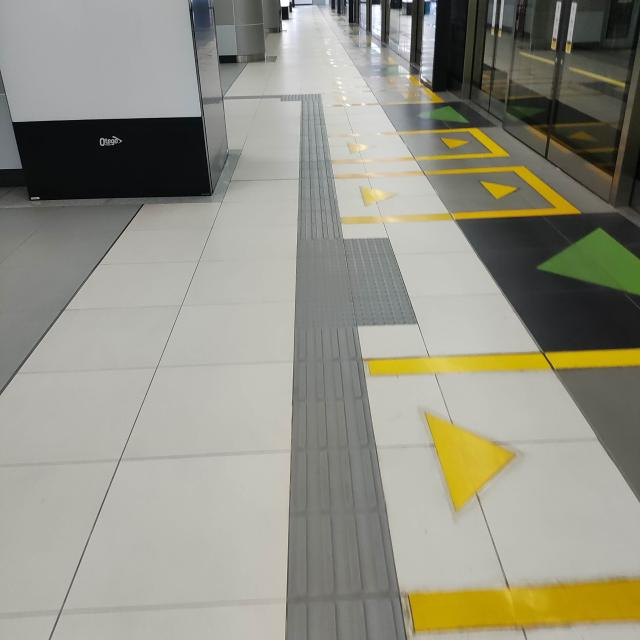kiri: (249, 80, 338, 112)
